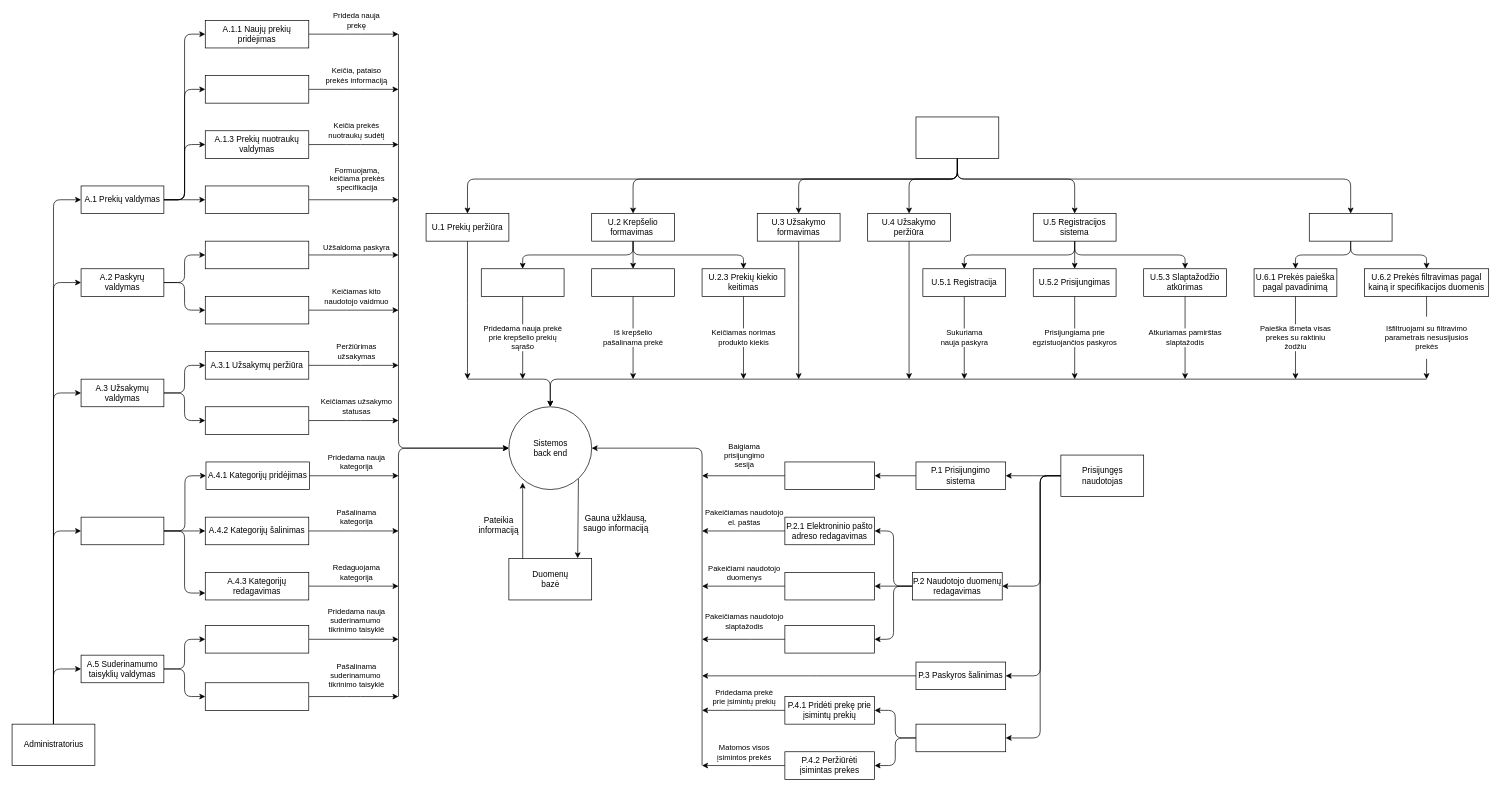
The diagram is 1501 pixels wide and 792 high, and some of its shapes have lost their labels. The shapes that lost their labels are listed below. From the top down, each one's centre as x and y in pixels, then its label:
(257,89): A.1.2 Prekės informacijos redagavimas
(957,137): Naudotojas
(257,199): A.1.4 Prekės specifikacijos formavimas
(1350,227): U.6 Prekių filtravimas
(257,254): A.2.1 Paskyros užblokavimas
(522,282): U.2.1 Prekių pridėjimas į krepšeli
(632,282): U.2.2 Prekių šalinimas iš krepšelio
(257,310): A.2.2 Paskyros vaidmens keitimas
(257,420): A.3.2 Užsakymų statuso keitimas
(829,475): P.1.1 Atsijungimas
(122,530): A.4 Kategorijų valdymas
(829,586): P.2.2 Naudoto vardo redagavimas
(257,639): A.5.1 Suderinamumo taisyklių pridėjimas
(829,639): P.2.3 Slaptažodžio keitimas
(257,696): A.5.2 Suderinamumo taisyklių šalinimas
(960,737): P.4 Įsiminti prekę
